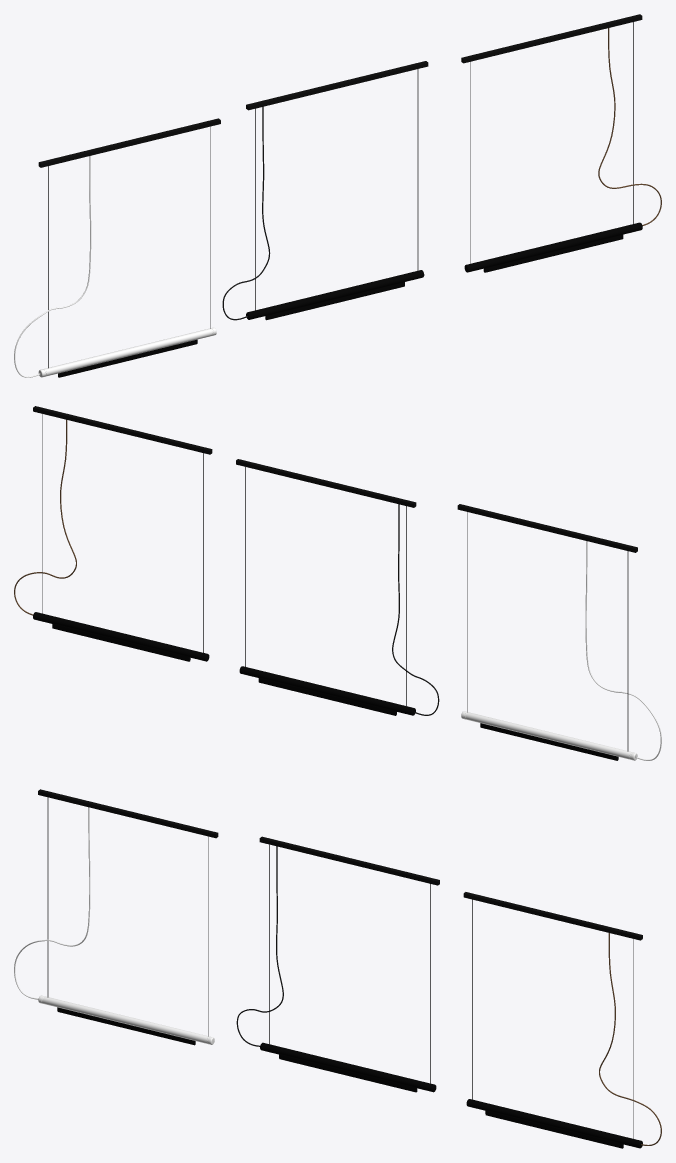
Rendered from Tyson_Pipeline_125_ANDlight_Pendant_Lights 1.FBX.
3 views of the same model, one above another, from view 1: azimuth 30°, elevation 25°; view 2: azimuth 150°, elevation 25°; view 3: azimuth 330°, elevation 25° (orthographic).
Parts seen in each view (by area): view 1: Line002, Line016, Line009, Box001, Box003, Box002, Line007, Line021, Line014, Line018; view 2: Line002, Line016, Line009, Box003, Box001, Box002, Line007, Line014, Line021, Line018; view 3: Line009, Line016, Line002, Box001, Box003, Box002, Line021, Line007, Line014.
Part boxes in pixels (left/top/right/bottom): Line002: left=471, top=223, right=638, bottom=271; Line016: left=44, top=328, right=212, bottom=376; Line009: left=252, top=271, right=419, bottom=318; Box001: left=246, top=61, right=428, bottom=110; Box003: left=38, top=118, right=220, bottom=167; Box002: left=461, top=14, right=642, bottom=63; Line007: left=483, top=234, right=623, bottom=272; Line021: left=58, top=339, right=197, bottom=377; Line014: left=265, top=282, right=404, bottom=320; Line018: left=14, top=156, right=91, bottom=377; Line002: left=37, top=613, right=202, bottom=660; Line016: left=465, top=712, right=631, bottom=759; Line009: left=244, top=667, right=409, bottom=714; Box003: left=457, top=504, right=637, bottom=552; Box001: left=236, top=459, right=416, bottom=507; Box002: left=33, top=406, right=212, bottom=454; Line007: left=52, top=624, right=190, bottom=661; Line014: left=258, top=678, right=396, bottom=715; Line021: left=480, top=723, right=618, bottom=760; Line018: left=585, top=541, right=661, bottom=760; Line009: left=264, top=1043, right=429, bottom=1090; Line016: left=42, top=996, right=208, bottom=1043; Line002: left=471, top=1100, right=636, bottom=1146; Box001: left=259, top=836, right=439, bottom=885; Box003: left=38, top=789, right=218, bottom=838; Box002: left=463, top=892, right=642, bottom=940; Line021: left=57, top=1007, right=195, bottom=1045; Line007: left=485, top=1111, right=623, bottom=1148; Line014: left=279, top=1054, right=417, bottom=1092.
Bounding box in the file's own units: 469 × 152 × 15.19.
